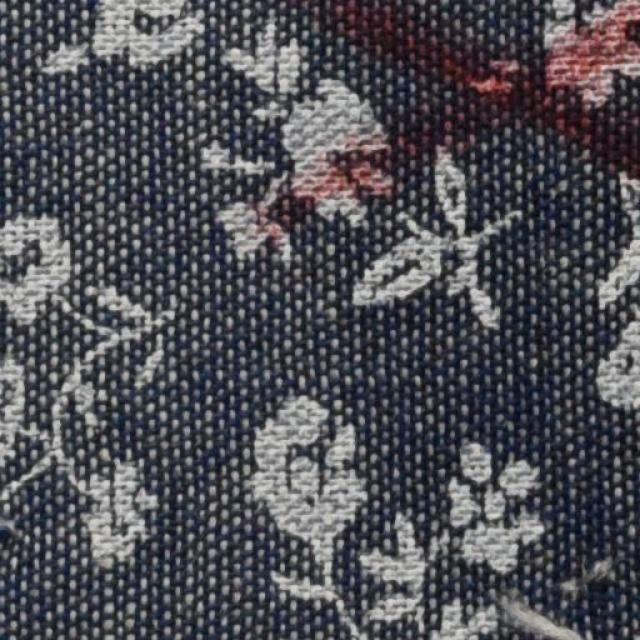Stain: (285, 0, 639, 220)
